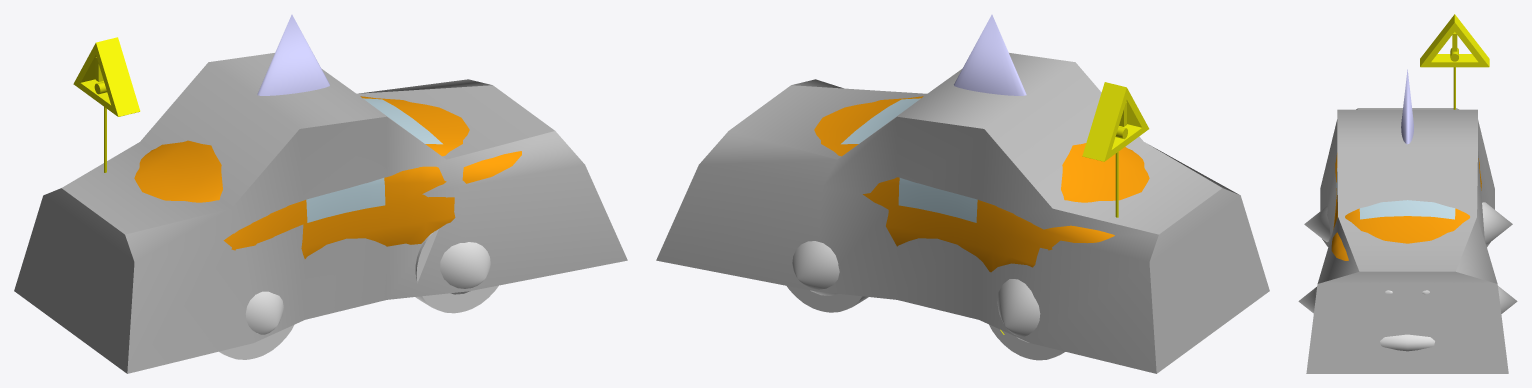
File: car.fbx
3 renders of one model, left to right at view 1: azimuth 30°, elevation 25°; view 2: azimuth 150°, elevation 25°; view 3: azimuth 270°, elevation 25°, orthographic. The views are drawn at different scales.
Parts seen in each view (by area): view 1: pCube1, polySurface2, pCone1, polySurface5, wheel1_1_2, wheel1, wheel1_1_3, wheel2; view 2: pCube1, polySurface2, pCone1, polySurface5, wheel1_1_5, wheel1_1_8, wheel3, wheel4; view 3: pCube1, polySurface2, polySurface5, polySurface6, wheel1_1_8, pCone1, wheel1_1_3, wheel1_1_5, wheel1_1_2.
Part boxes in pixels (x1,y1,x2,y2): pCube1: [14, 53, 627, 373]; polySurface2: [134, 96, 521, 258]; pCone1: [257, 14, 329, 95]; polySurface5: [73, 37, 140, 116]; wheel1_1_2: [440, 242, 490, 294]; wheel1: [415, 229, 498, 313]; wheel1_1_3: [245, 291, 283, 334]; wheel2: [219, 325, 293, 359]; pCube1: [656, 53, 1269, 373]; polySurface2: [814, 96, 1149, 272]; pCone1: [954, 14, 1026, 95]; polySurface5: [1082, 82, 1149, 161]; wheel1_1_5: [792, 241, 839, 295]; wheel1_1_8: [997, 279, 1040, 342]; wheel3: [787, 286, 868, 312]; wheel4: [989, 324, 1065, 360]; pCube1: [1306, 108, 1508, 373]; polySurface2: [1331, 153, 1481, 260]; polySurface5: [1420, 14, 1489, 67]; polySurface6: [1380, 334, 1434, 351]; wheel1_1_8: [1482, 202, 1512, 244]; pCone1: [1401, 69, 1413, 144]; wheel1_1_3: [1304, 206, 1330, 242]; wheel1_1_5: [1498, 286, 1517, 313]; wheel1_1_2: [1298, 286, 1317, 313].
Bounding box in the file's own units: 5.57 × 3.18 × 2.79.
